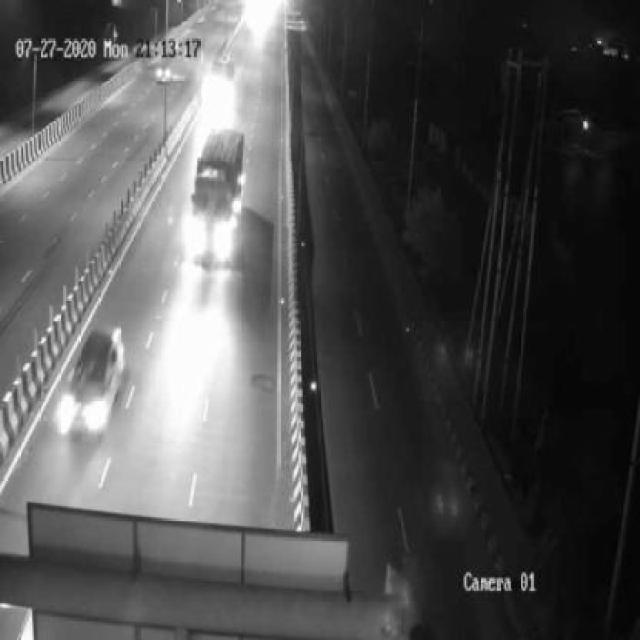car: (52, 331, 126, 435)
